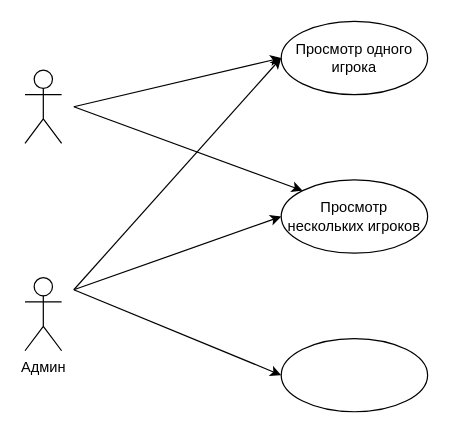
Some shapes in this 449 by 433 pixel diagram are drawn without their labels. Here are the shapes that lost their labels. From the top down, the centre of each, then its label:
At point (43, 106): "Гость".
At point (354, 374): "Добавление игроков".
